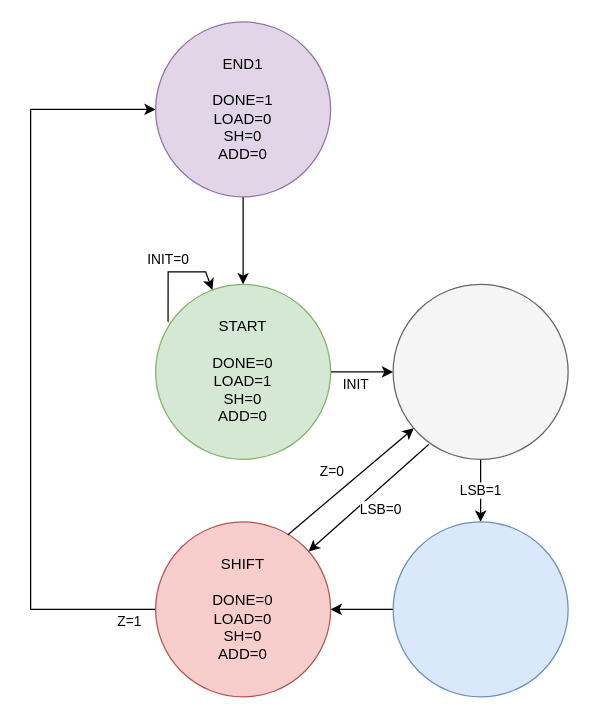
Image size: 590x719. Some labels were removed from this diagram. Here are the shapes that lost their labels. From the top down, the centre of each, then its label:
At pixel 480 371: "CHECK DONE=0 LOAD=0 SH=0 ADD=0".
At pixel 480 609: "ADD DONE=0 LOAD=0 SH=0 ADD=1".
